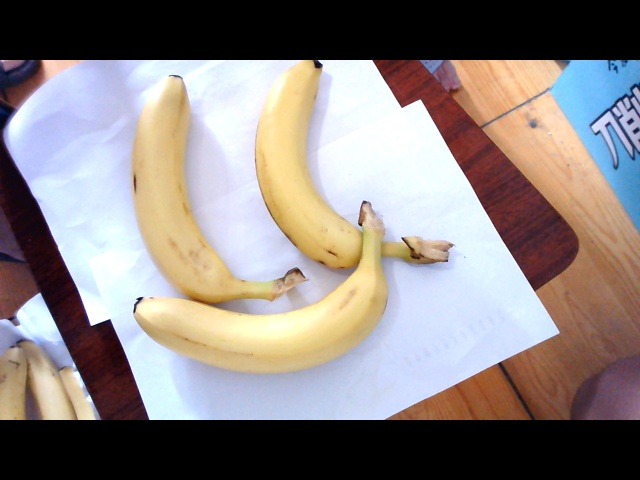banana: (249, 53, 401, 261), (135, 275, 417, 378), (119, 82, 238, 297)
